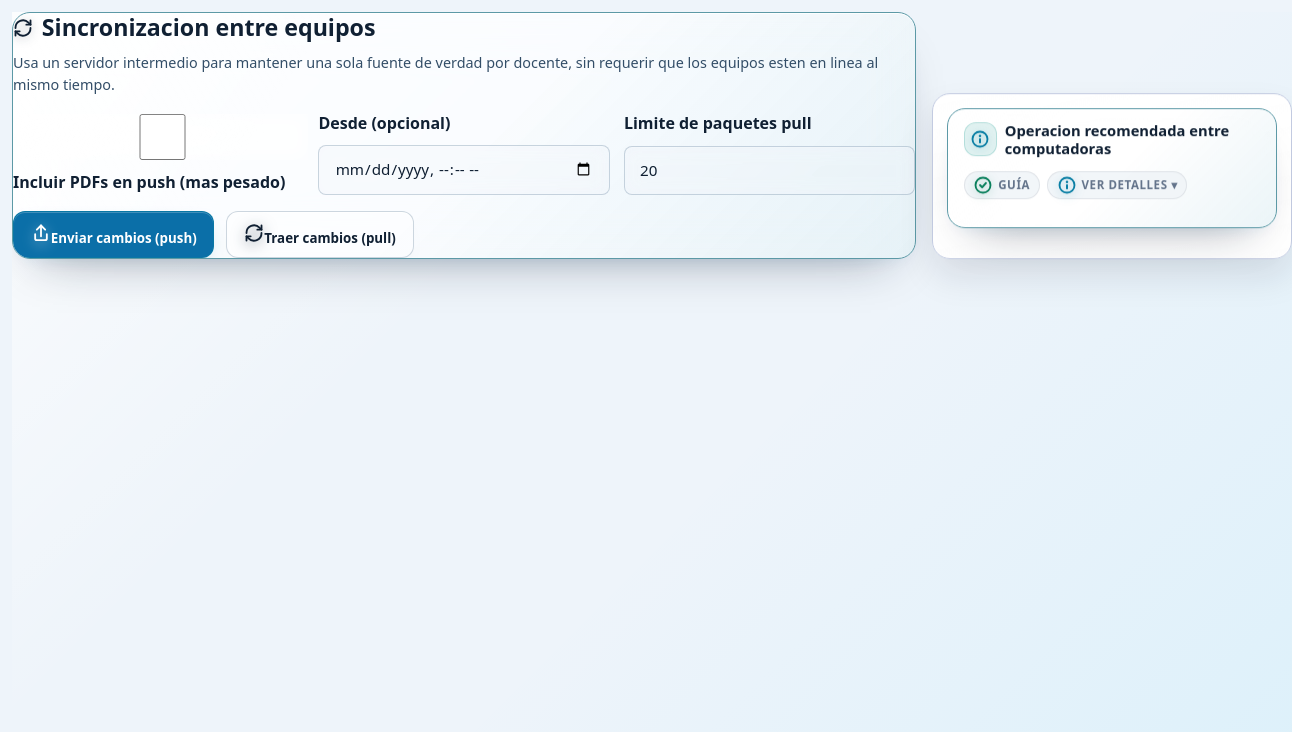
SeccionSincronizacionEquipos › maneja y muestra errores en caso de fallo durante push o pull
Click the button "Enviar cambios (push)" at (114, 235), box 13,211 -> 214,258
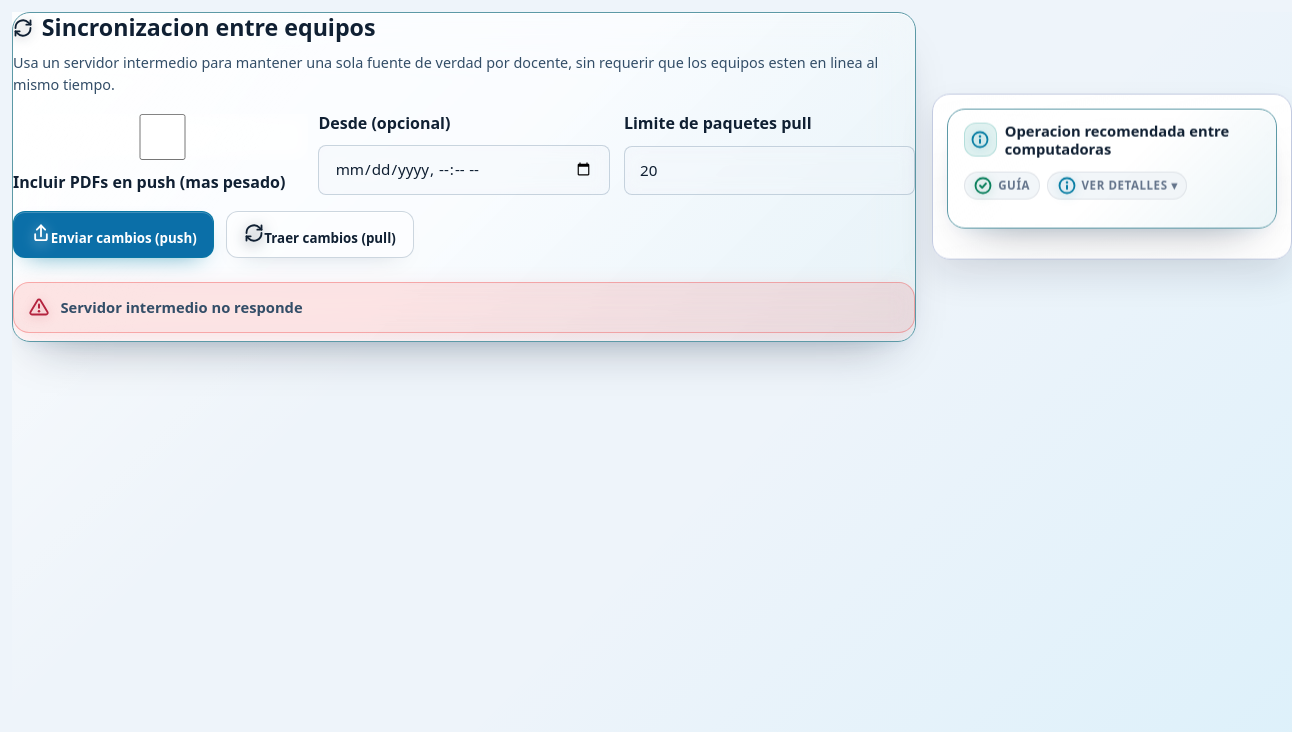
Result: the text "Servidor intermedio no responde" is shown at 60,297 -> 303,317
